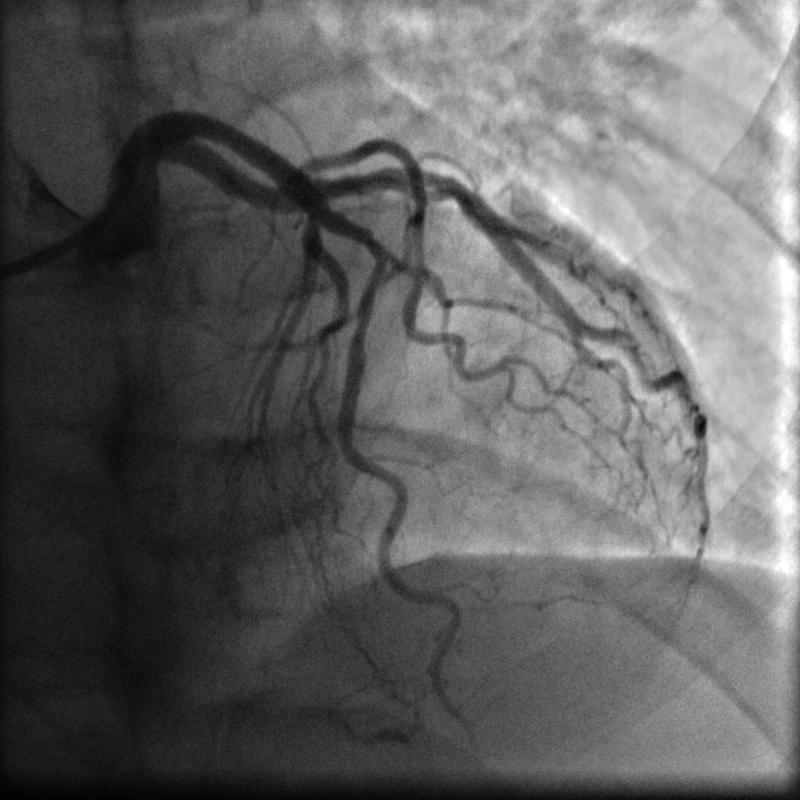Stenosis: (357, 244, 383, 318)
